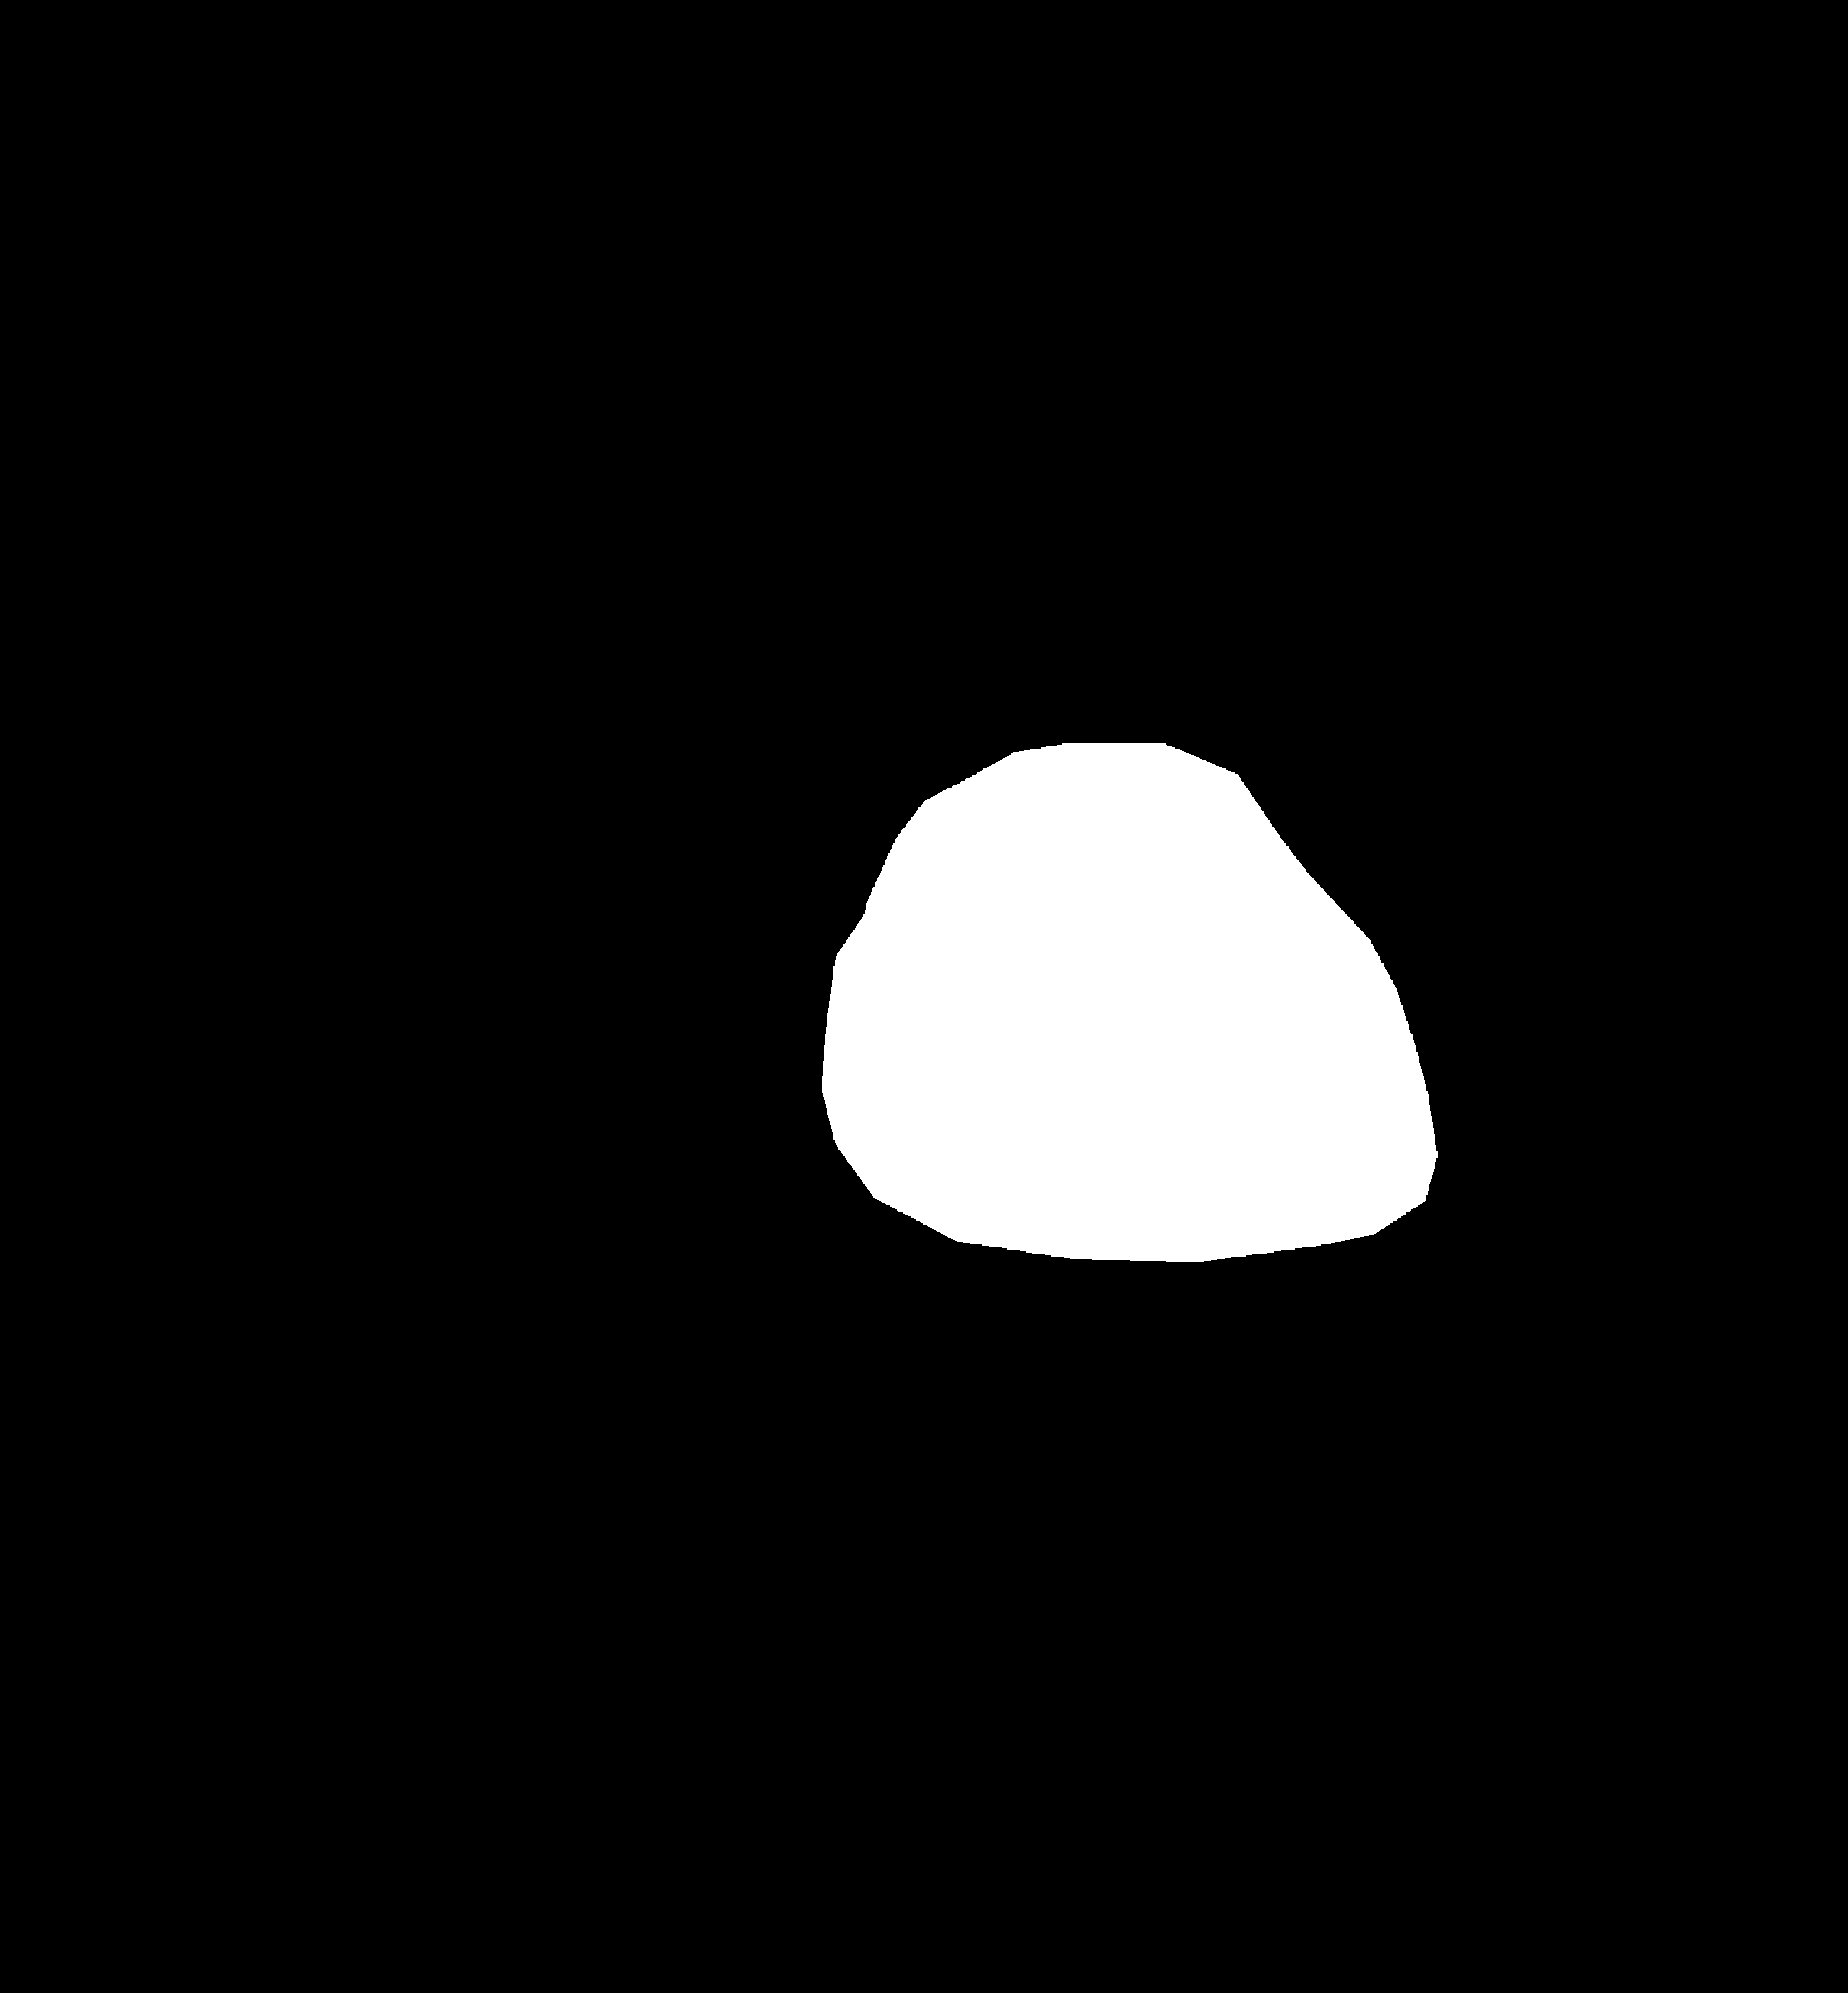heart: (825, 840, 1455, 1292)
left_lung: (321, 288, 905, 1295)
right_lung: (1086, 264, 1636, 1328)
